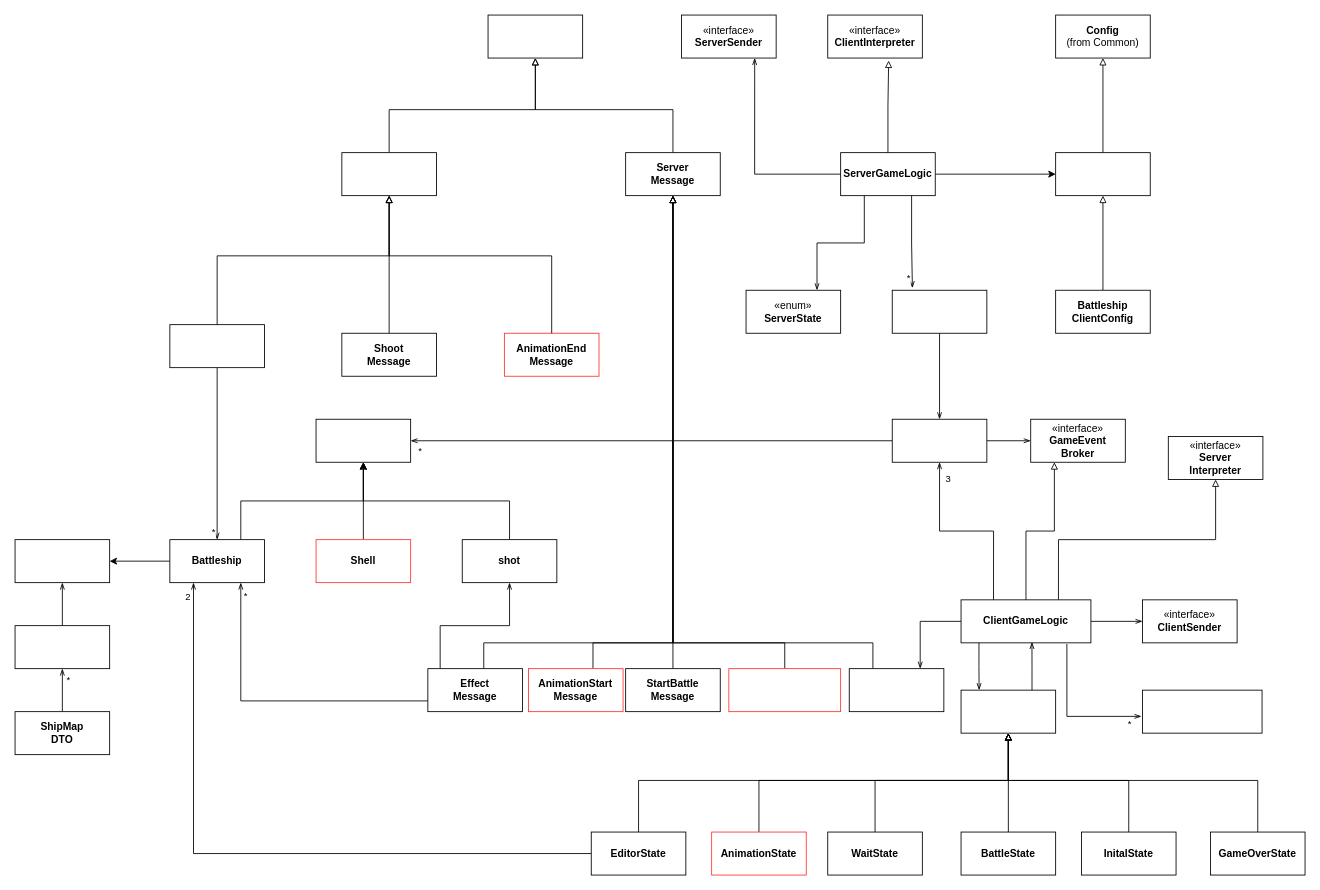
Image size: 1320x890. Some labels were removed from this diagram. Each missing label, with the centre of its shape:
AbstractMessage (from JME): point (535, 36)
Battleship DTO: point (62, 647)
BattleshipConfig: point (1102, 174)
Client Message: point (388, 174)
ClientState: point (1008, 711)
Game Details: point (896, 690)
Map Message: point (216, 346)
Player: point (939, 311)
ShipMap: point (939, 440)
SwitchBattleState: point (784, 690)
«enum» Rotation: point (62, 561)
«interface» GameEventListener: point (1202, 711)
«interface» Item: point (363, 440)
